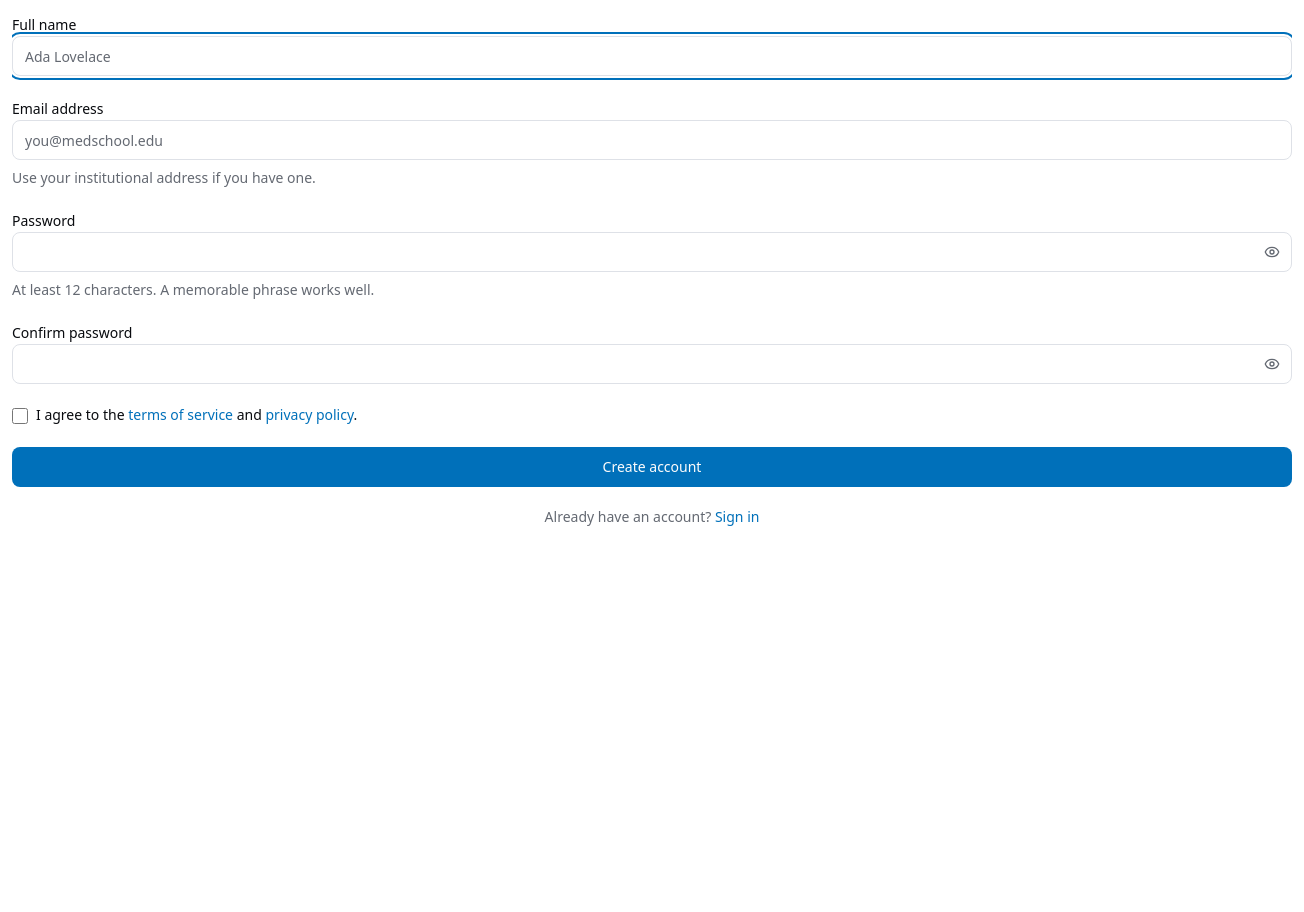
it: RegisterForm › reports mismatched passwords on the confirmation field
The image size is (1304, 912).
In the password field labelled "Password": (652, 252) [12,232,1292,272], type "correct-horse-battery"
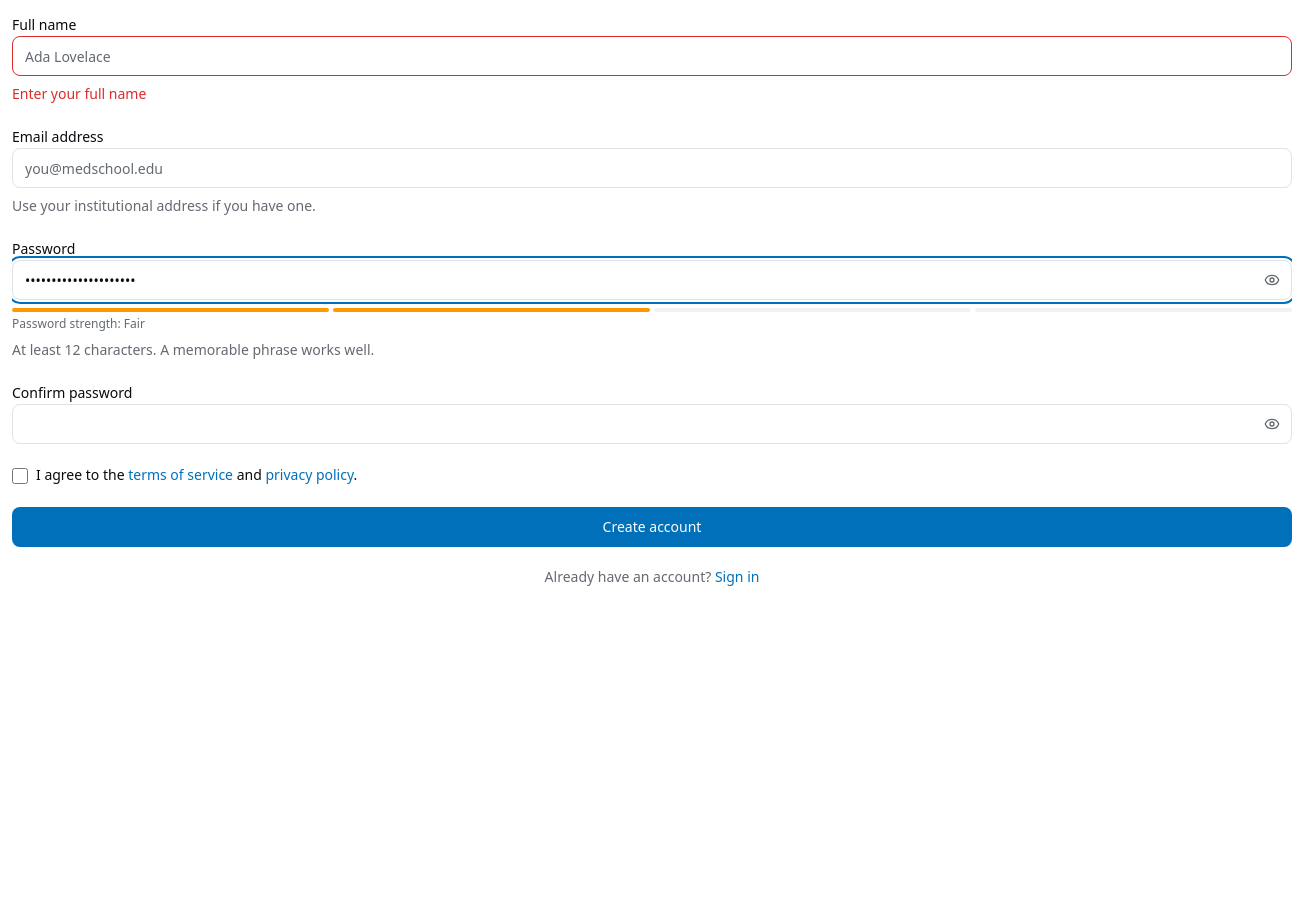
In the password field labelled "Confirm password": (652, 424) [12,404,1292,444], type "different-passphrase"
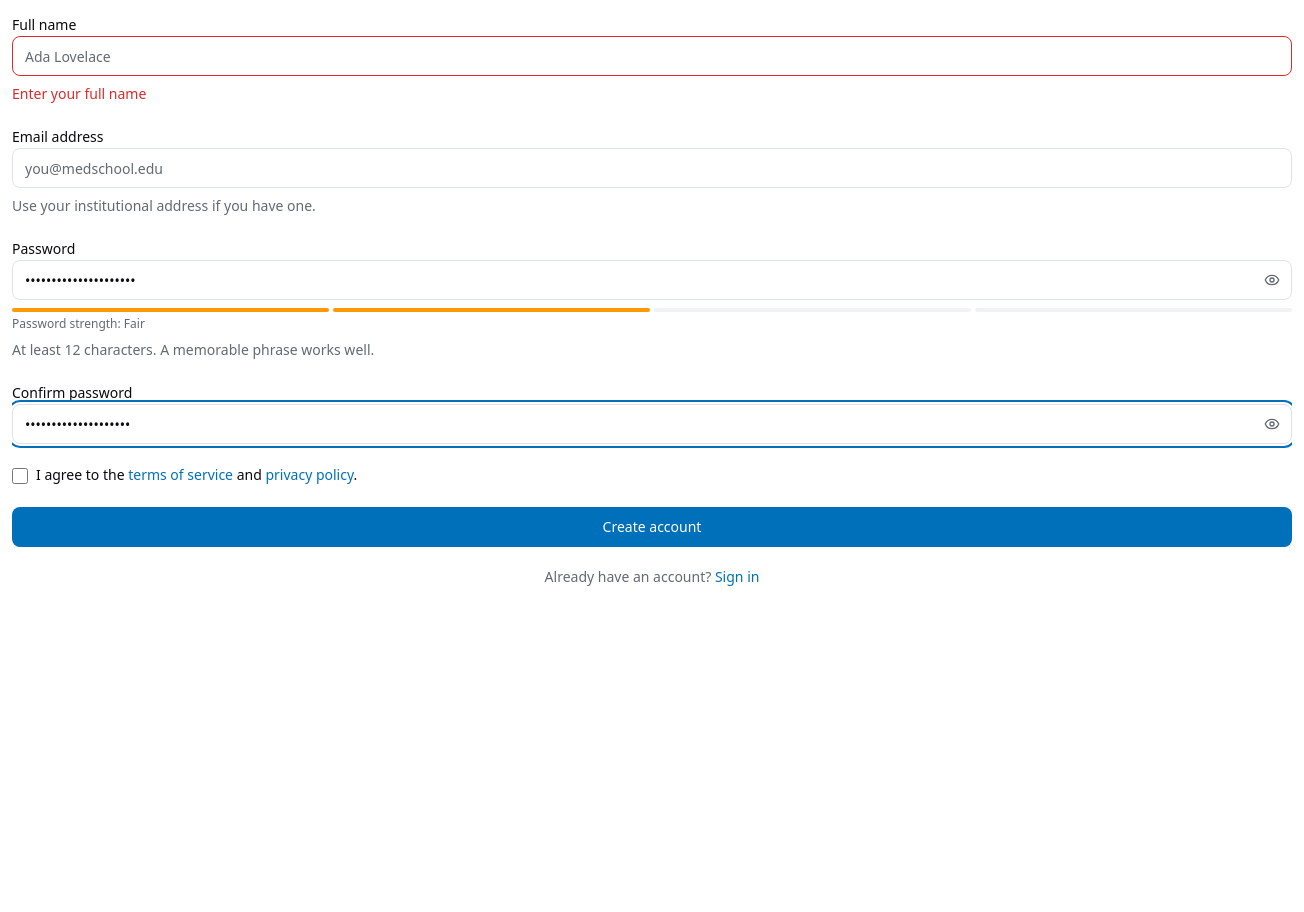
Click the button "Create account": (652, 527) [12,507,1292,547]
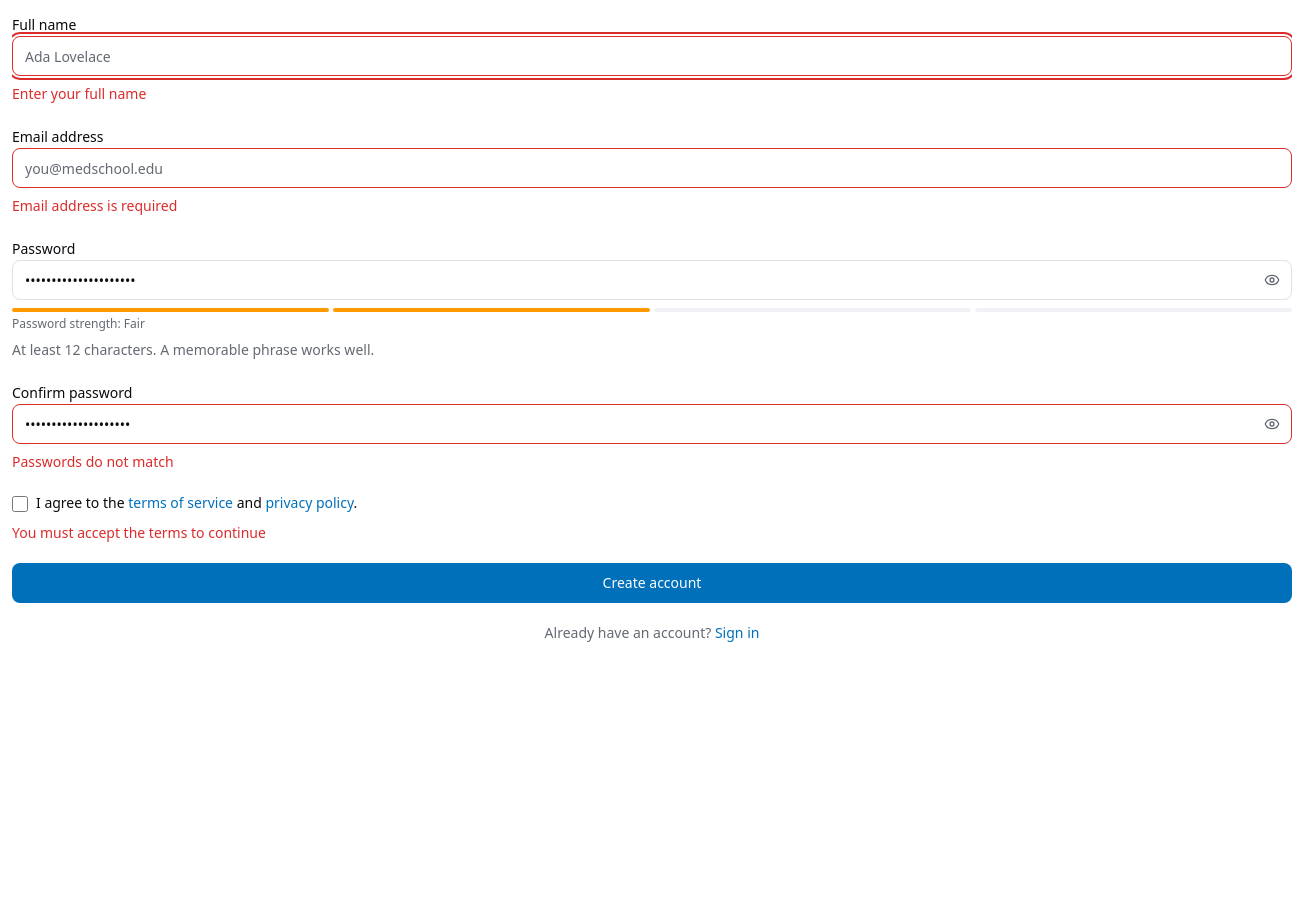
Expected: the text "Passwords do not match" is shown, [12,452,174,471]
